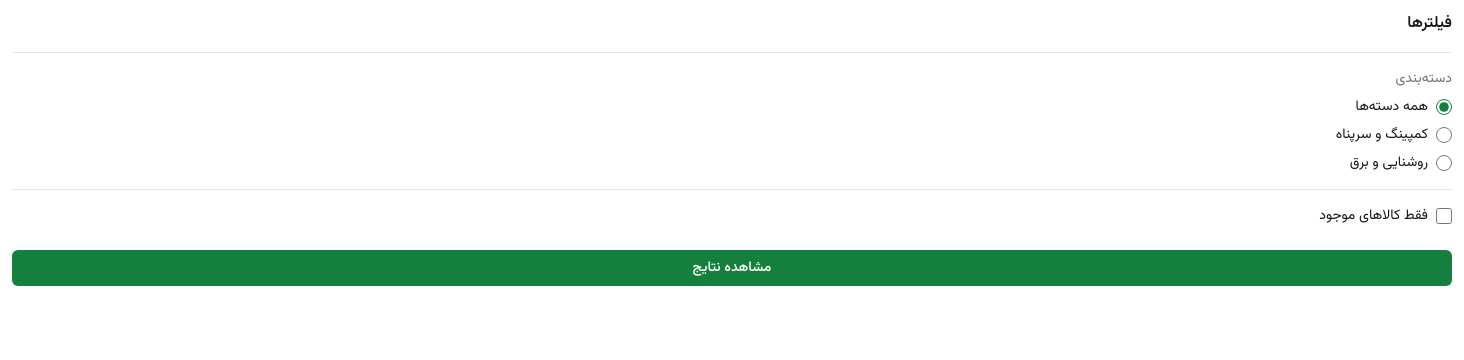
it: ProductFilters › in apply mode, offers to clear as soon as a filter is selected, even before it is applied
Expected: the button "پاک کردن فیلترها" is not shown
Click the radio button labelled "روشنایی و برق" at (1444, 163), box left=1436, top=155, right=1452, bottom=171
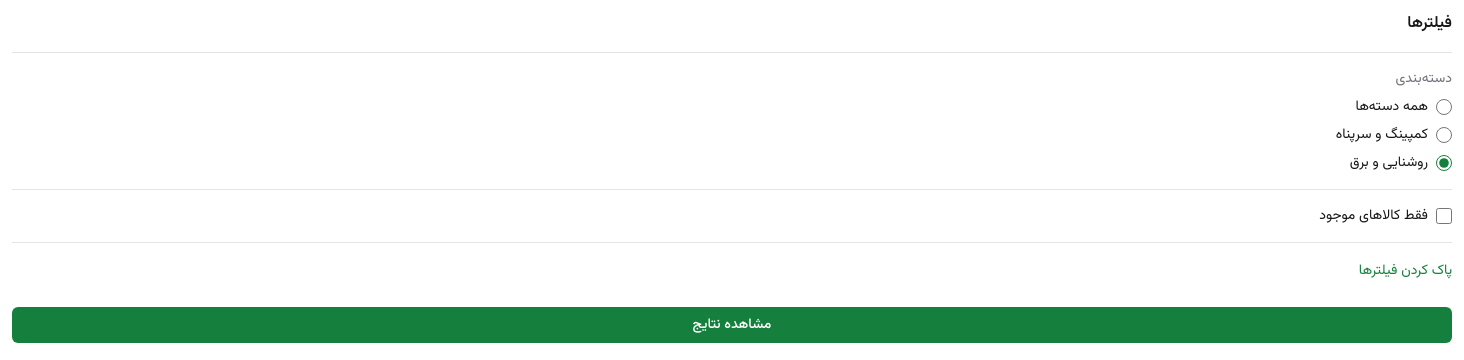
Result: the button "پاک کردن فیلترها" is shown at left=1359, top=261, right=1452, bottom=281
